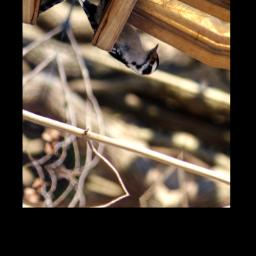Woodpecker: (63, 0, 182, 79)
